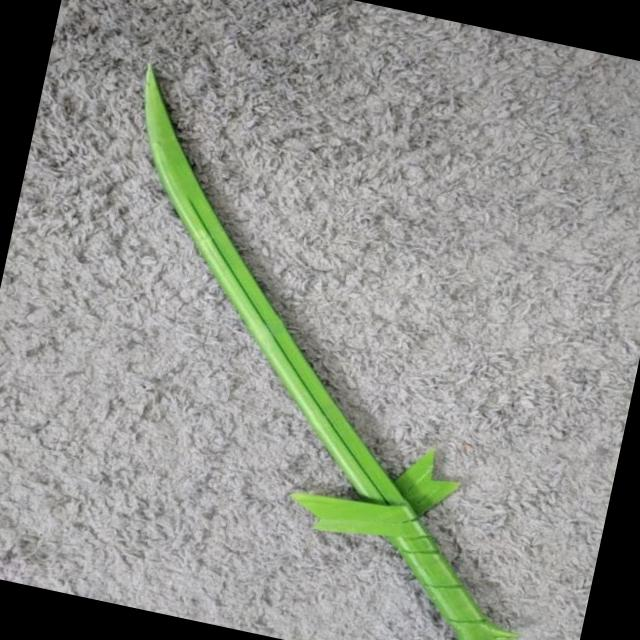Weapon: (24, 55, 630, 640)
